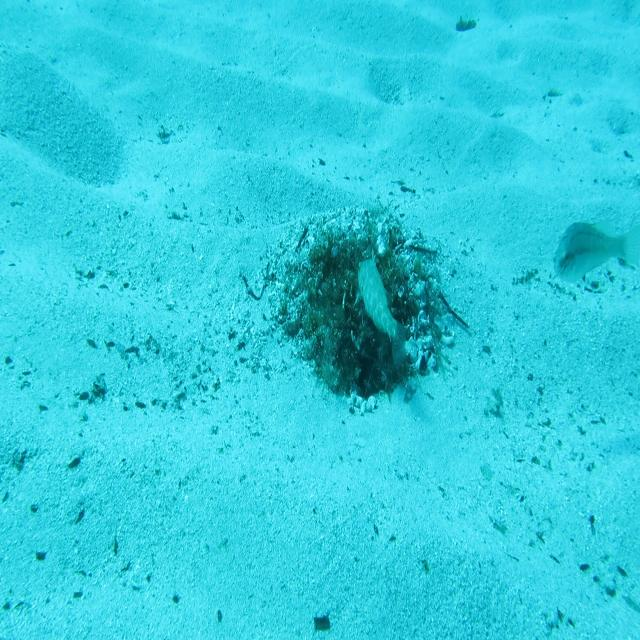FAN: (356, 246, 408, 371)
core_nest: (333, 251, 369, 275)
female: (551, 216, 640, 287)
nest: (262, 190, 458, 428)
vegetation: (454, 16, 479, 36), (312, 613, 332, 632)
